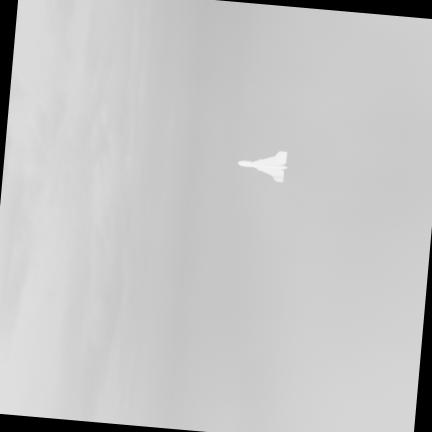Shahed: (238, 151, 287, 181)
